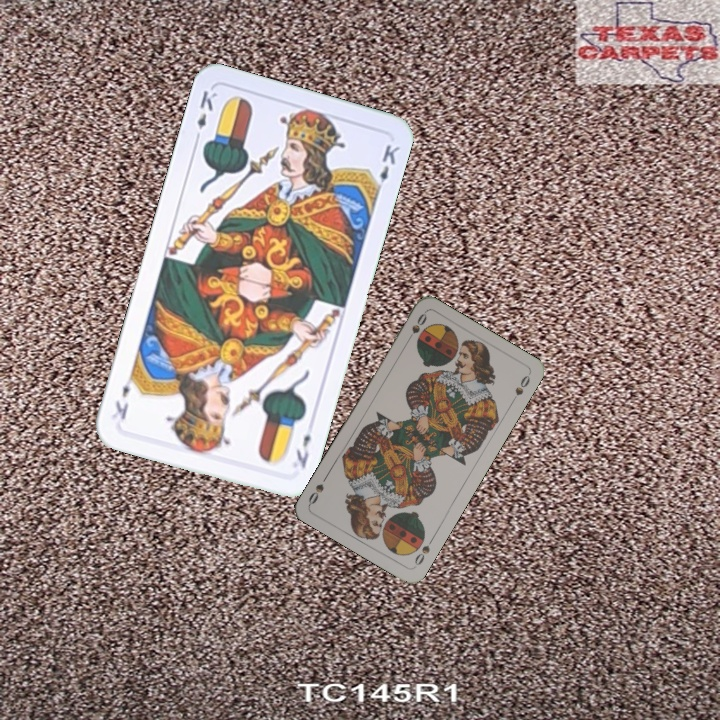EK: (190, 86, 220, 145), (291, 430, 314, 471)
SO: (403, 309, 430, 346), (410, 533, 437, 570)
